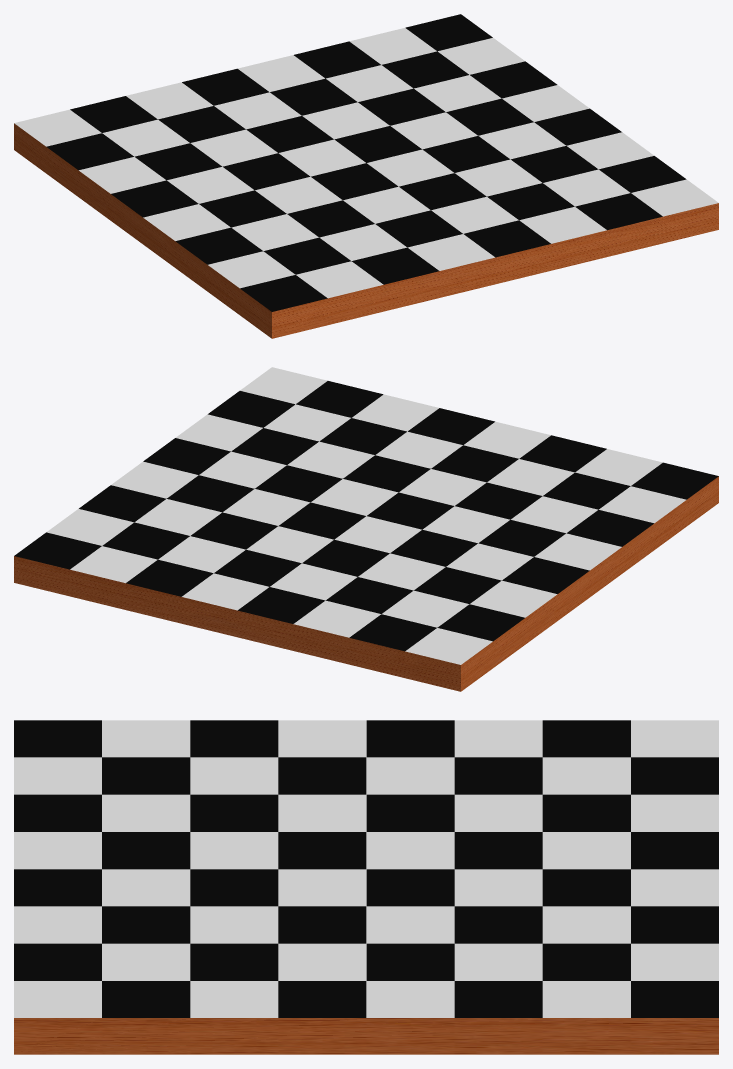
The model's file is HUBCheckers.fbx.
3 renders of one model, top to bottom at view 1: azimuth 30°, elevation 25°; view 2: azimuth 150°, elevation 25°; view 3: azimuth 270°, elevation 25°, orthographic. The views are drawn at different scales.
Visible parts, largest first — view 1: pCube1; view 2: pCube1; view 3: pCube1.
Boxes of the visible parts, box(x1,y1,x2,y2) form: pCube1: box(14, 14, 718, 338); pCube1: box(14, 367, 718, 691); pCube1: box(14, 720, 718, 1054).
Bounding box in the file's own units: 17.43 × 1 × 17.43.
